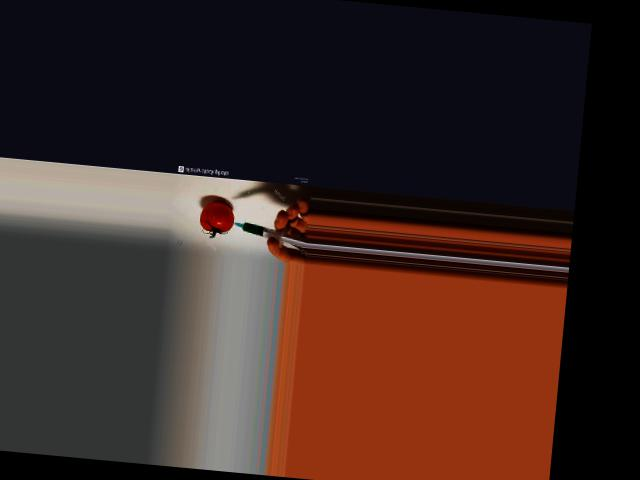tomato: (200, 200, 236, 233)
